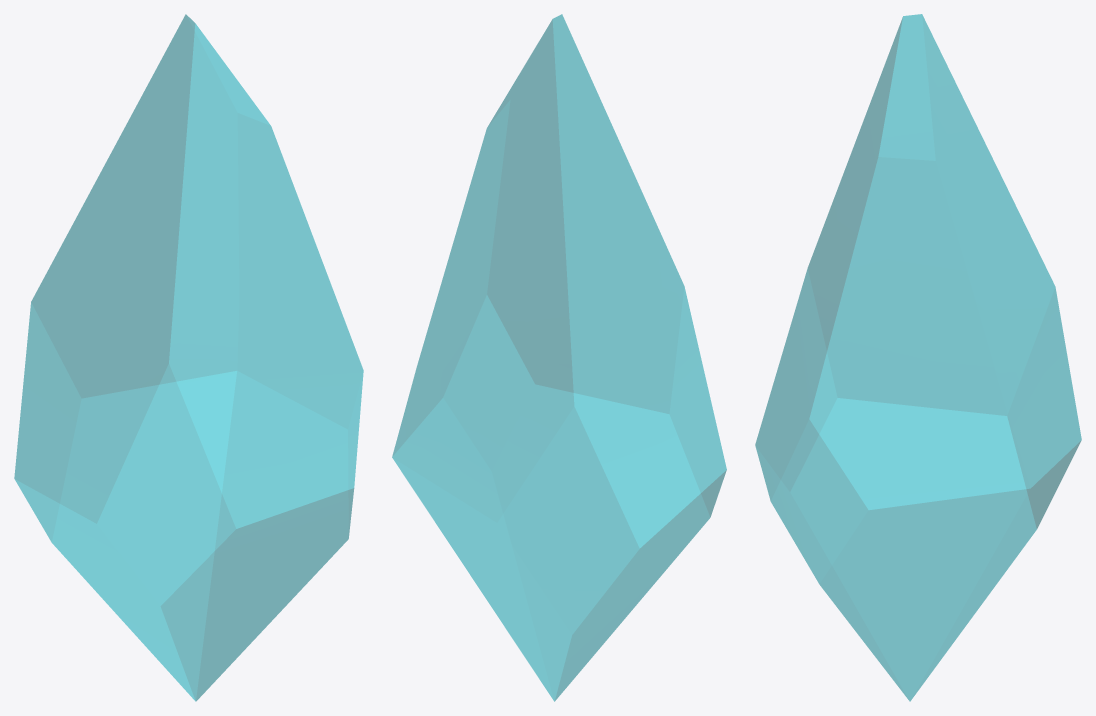
The model's file is Crystal4.fbx.
3 views of the same model, side by side, from view 1: azimuth 30°, elevation 25°; view 2: azimuth 150°, elevation 25°; view 3: azimuth 270°, elevation 25° (orthographic).
Parts seen in each view (by area): view 1: Crystal4; view 2: Crystal4; view 3: Crystal4.
Boxes of the visible parts, x1,y1,x2,y2 form: Crystal4: [14, 14, 363, 701]; Crystal4: [392, 14, 726, 701]; Crystal4: [755, 14, 1081, 701].
Size of the model in its own units: 0.6725 by 1.65 by 0.7121.
